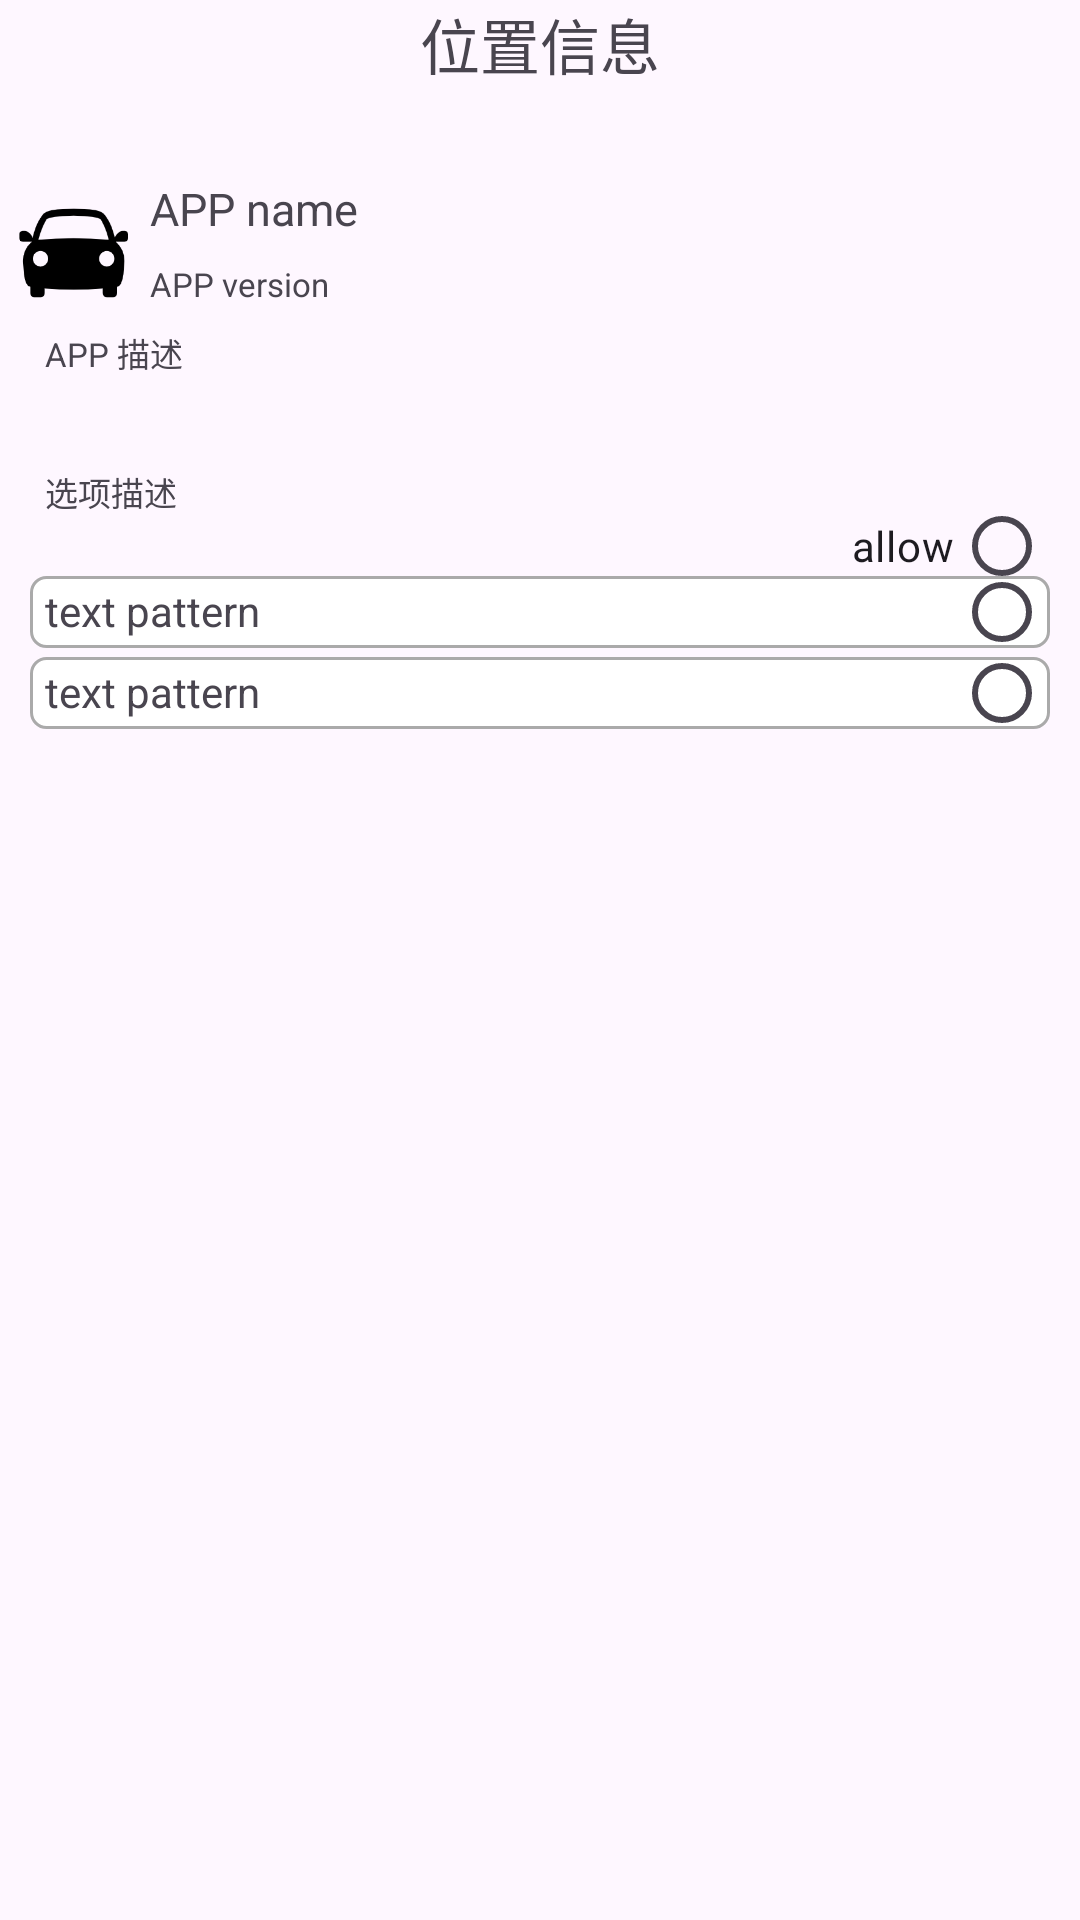

Point at icon controls on the screen. Image size 1080x1920, points as (x,y).
car: (73,253)
